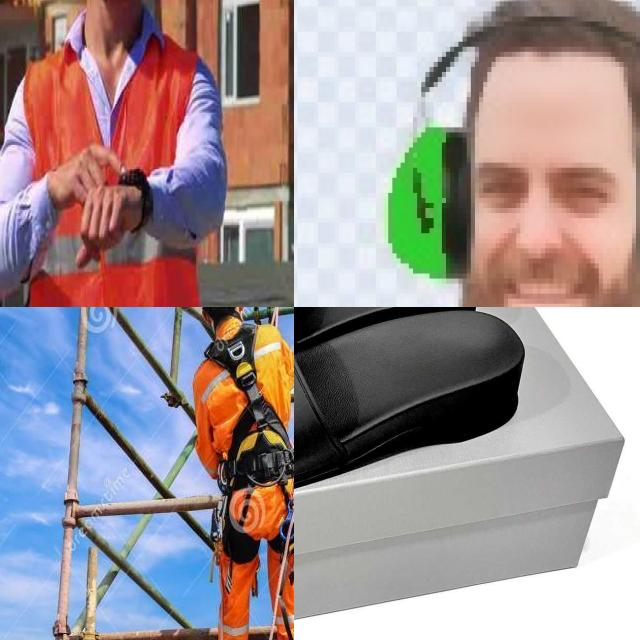Ear-protection: (342, 0, 640, 307), (372, 7, 640, 290)
Harness: (205, 324, 294, 460), (239, 460, 294, 486)
Sandals: (294, 307, 536, 533)
hand_noglove: (75, 175, 144, 260), (60, 136, 128, 201)
person: (0, 0, 238, 307)
vest: (33, 30, 215, 307)
